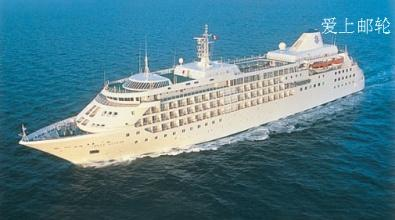youlun: (22, 29, 367, 166)
